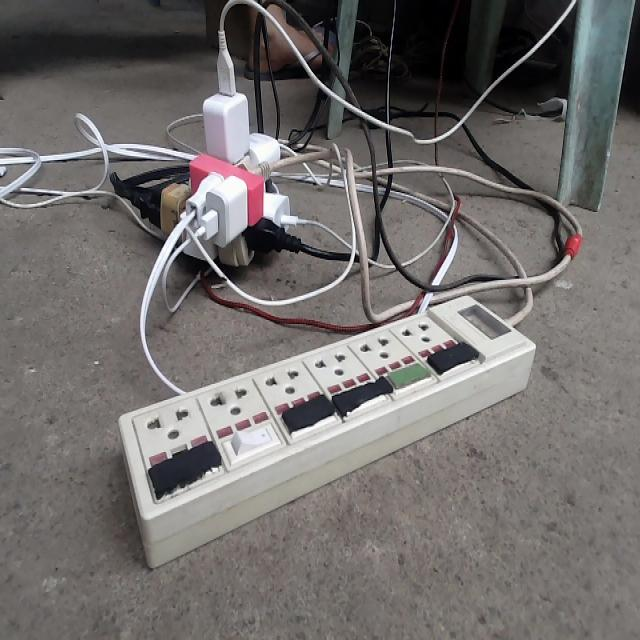-: (123, 27, 309, 273)
